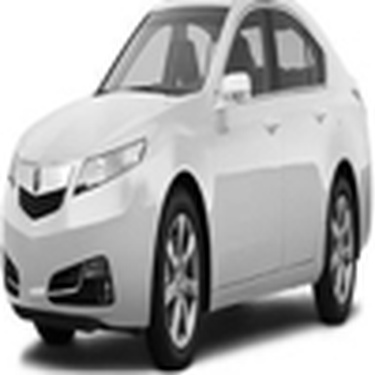car: (1, 6, 369, 371)
